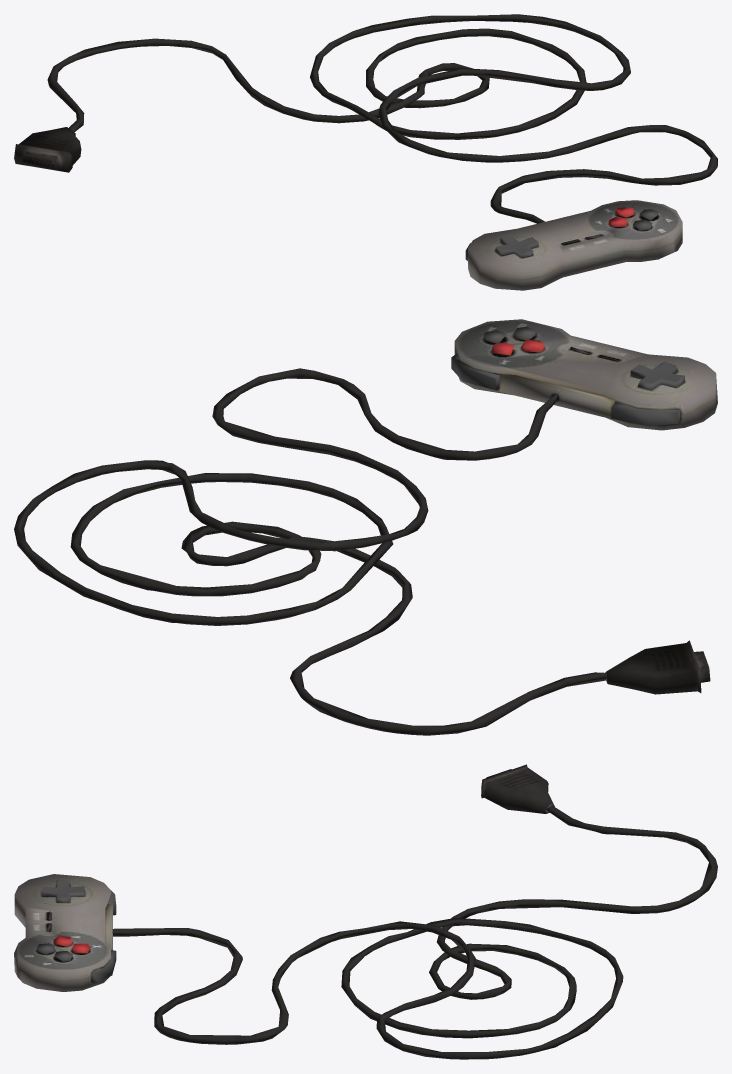
File: gamepad.l.c02fb076.glb
3 views of the same model, one above another, from view 1: azimuth 30°, elevation 25°; view 2: azimuth 150°, elevation 25°; view 3: azimuth 270°, elevation 25° (orthographic). The views are drawn at different scales.
Parts seen in each view (by area): view 1: gamepad; view 2: gamepad; view 3: gamepad.
Part boxes in pixels (box(x1,y1,x2,y2)): gamepad: box(14, 14, 717, 290); gamepad: box(14, 319, 717, 735); gamepad: box(14, 764, 717, 1059).
Bounding box in the file's own units: 0.4037 × 0.0187 × 0.435.
1 material, 1 textured.
